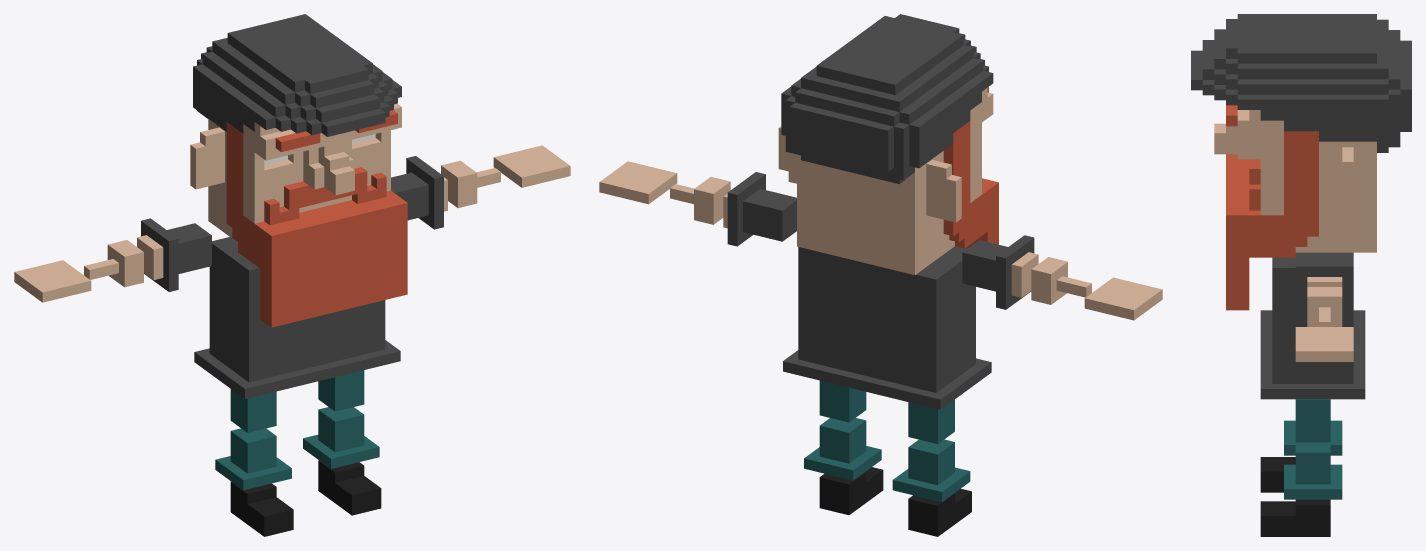
File: SM_George_A1_ML.obj
The picture shows the model from 3 angles, left to right: view 1: azimuth 30°, elevation 25°; view 2: azimuth 150°, elevation 25°; view 3: azimuth 270°, elevation 25°; orthographic projection. The views are drawn at different scales.
Visible parts, largest first — view 1: Mesh polySurface4, Mesh polySurface5, polySurface3 polySurface19, Mesh polySurface6, polySurface9 Mesh, polySurface17 polySurface13, Mesh polySurface10, Mesh polySurface7, polySurface3 polySurface18, polySurface13 polySurface16, polySurface20 polySurface3, polySurface13 polySurface15 (+2 smaller); view 2: Mesh polySurface4, Mesh polySurface5, polySurface17 polySurface13, polySurface3 polySurface19, polySurface9 Mesh, Mesh polySurface6, polySurface3 polySurface18, polySurface13 polySurface16, Mesh polySurface10, Mesh polySurface7, polySurface20 polySurface3, polySurface13 polySurface15 (+2 smaller); view 3: Mesh polySurface4, Mesh polySurface5, polySurface9 Mesh, polySurface17 polySurface13, Mesh polySurface10, polySurface13 polySurface16, Mesh polySurface11, polySurface13 polySurface15, Mesh polySurface7, Mesh polySurface6.
Boxes of the visible parts, <box> form: Mesh polySurface4: <box>190,14,407,327</box>; Mesh polySurface5: <box>194,237,400,398</box>; polySurface3 polySurface19: <box>137,218,211,291</box>; Mesh polySurface6: <box>215,428,291,490</box>; polySurface9 Mesh: <box>303,407,379,468</box>; polySurface17 polySurface13: <box>391,156,447,229</box>; Mesh polySurface10: <box>318,460,381,515</box>; Mesh polySurface7: <box>230,481,293,536</box>; polySurface3 polySurface18: <box>14,260,91,302</box>; polySurface13 polySurface16: <box>493,145,570,187</box>; polySurface20 polySurface3: <box>84,240,143,287</box>; polySurface13 polySurface15: <box>441,160,500,207</box>; Mesh polySurface4: <box>778,14,998,274</box>; Mesh polySurface5: <box>783,246,991,409</box>; polySurface17 polySurface13: <box>723,172,796,246</box>; polySurface3 polySurface19: <box>962,235,1038,309</box>; polySurface9 Mesh: <box>804,418,881,480</box>; Mesh polySurface6: <box>892,439,970,502</box>; polySurface3 polySurface18: <box>1084,277,1162,320</box>; polySurface13 polySurface16: <box>599,161,677,204</box>; Mesh polySurface10: <box>819,467,883,515</box>; Mesh polySurface7: <box>908,488,971,536</box>; polySurface20 polySurface3: <box>1031,257,1091,304</box>; polySurface13 polySurface15: <box>670,177,730,224</box>; Mesh polySurface4: <box>1191,14,1411,310</box>; Mesh polySurface5: <box>1260,252,1365,399</box>; polySurface9 Mesh: <box>1284,442,1342,499</box>; polySurface17 polySurface13: <box>1295,252,1353,319</box>; Mesh polySurface10: <box>1260,499,1330,536</box>; polySurface13 polySurface16: <box>1295,327,1353,361</box>; Mesh polySurface11: <box>1295,399,1330,442</box>; polySurface13 polySurface15: <box>1307,287,1342,326</box>; Mesh polySurface7: <box>1260,457,1295,492</box>; Mesh polySurface6: <box>1284,420,1342,455</box>.
Size of the model in its own units: 5.43 by 4.5 by 1.9.
Materials: 1 (1 with a texture image).
